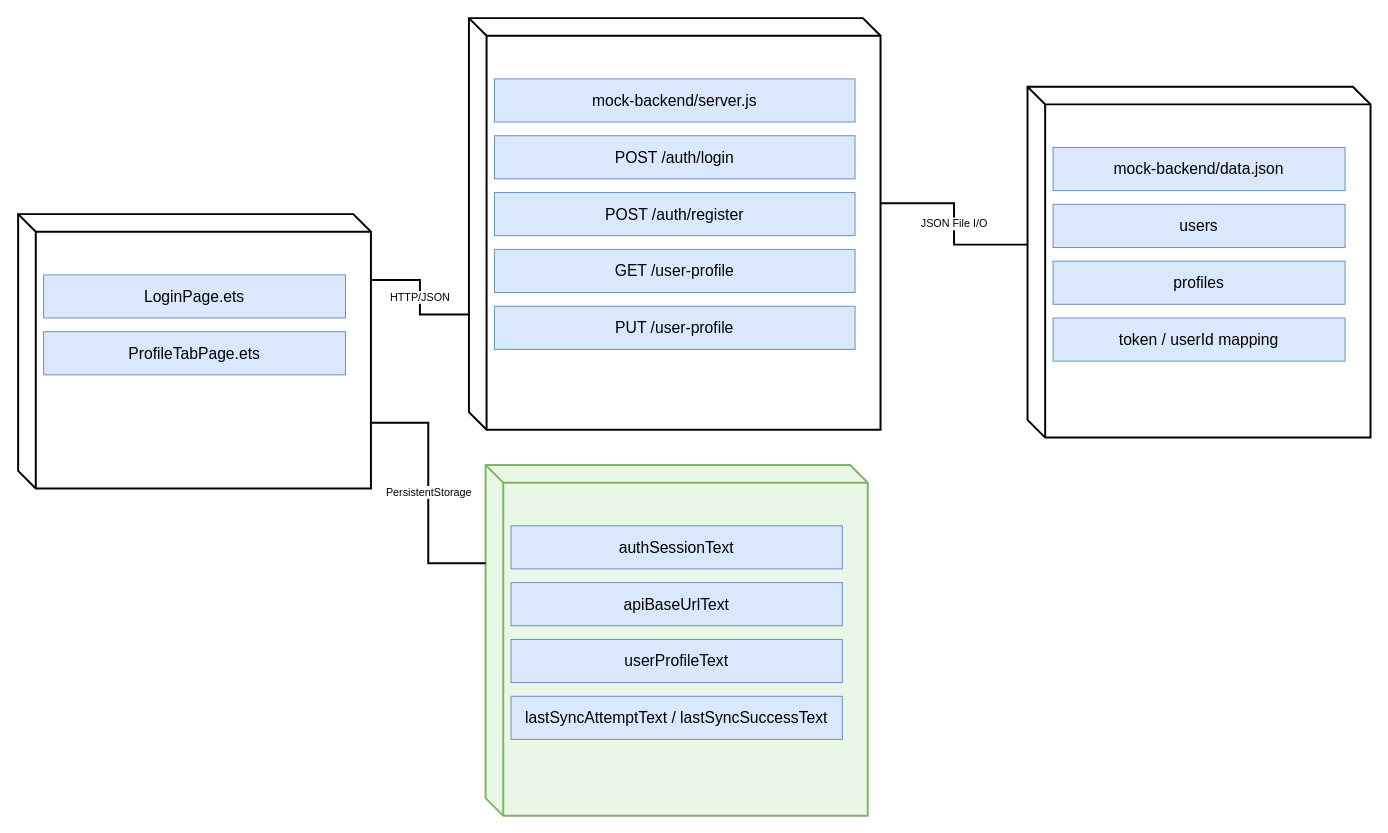
The diagram is 1388 pixels wide and 833 high, and some of its shapes have lost their labels. The box of each missing label's shape, as (x1, y1, x2, y2) in pixels:
业务数据存储: (1026, 85, 1371, 438)
业务服务器: (467, 17, 881, 430)
客户端: (17, 213, 371, 489)
本地缓存: (484, 464, 868, 816)
